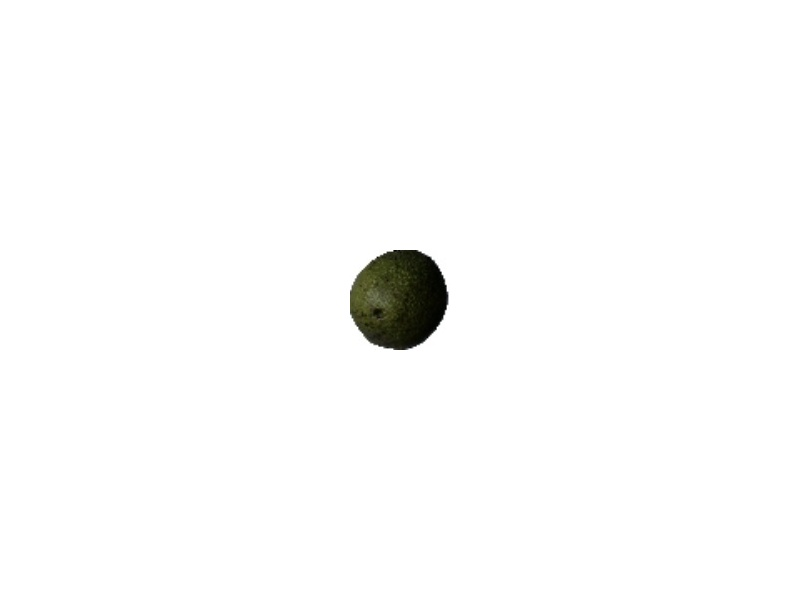abacate: (345, 247, 453, 352)
